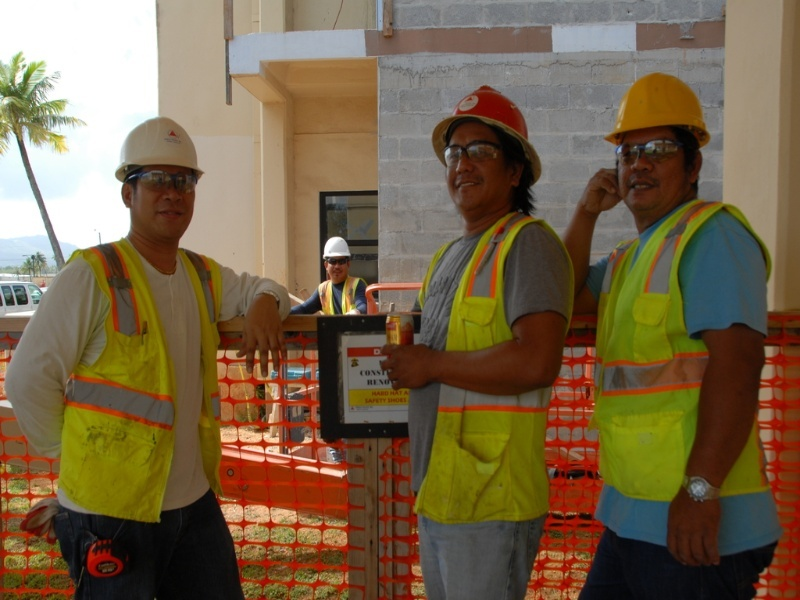Baret: (609, 72, 713, 148), (114, 116, 207, 182), (431, 86, 544, 138), (320, 236, 352, 262)
Gozluk: (615, 136, 687, 168), (437, 143, 508, 172), (133, 170, 207, 195)
